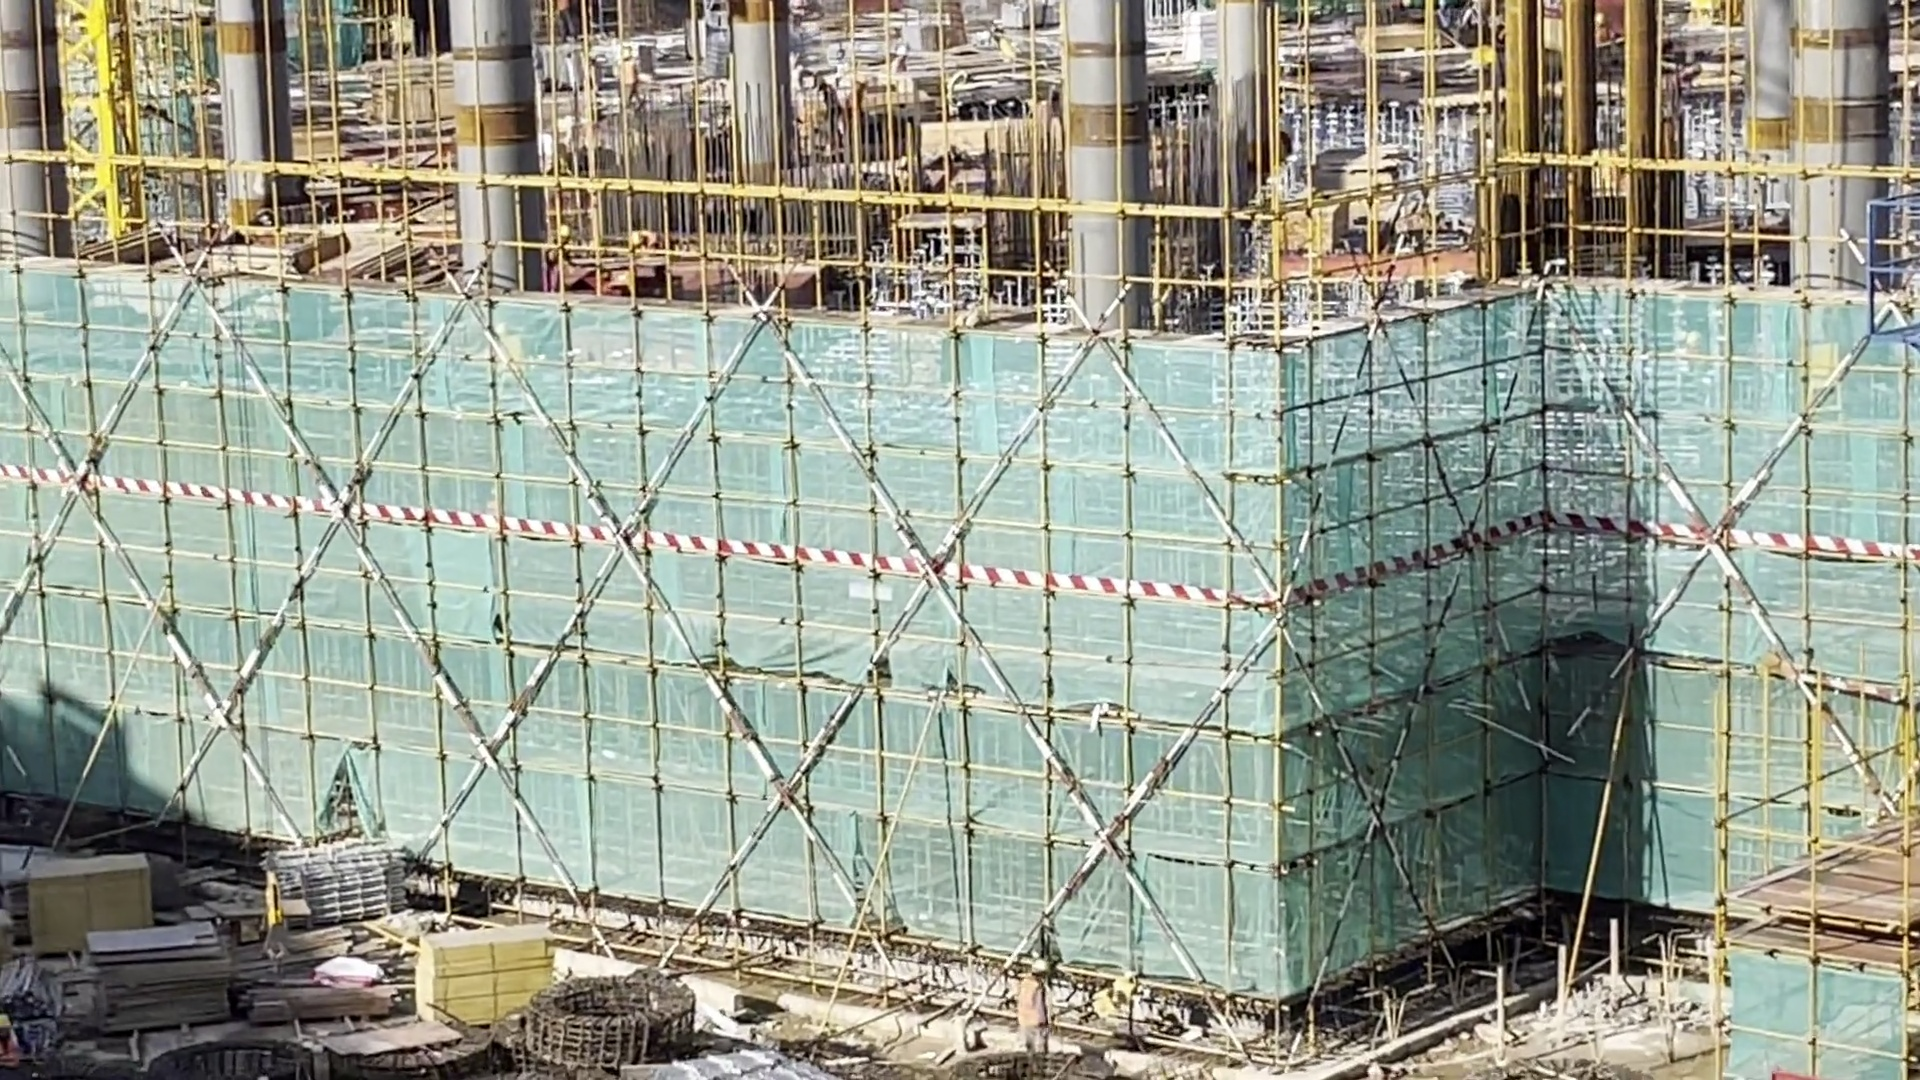board: (93, 927, 233, 1031), (412, 935, 551, 1024), (19, 862, 162, 938)
person: (1023, 957, 1054, 1060), (619, 45, 642, 104), (546, 224, 569, 276)
scaffold: (273, 851, 401, 920)
